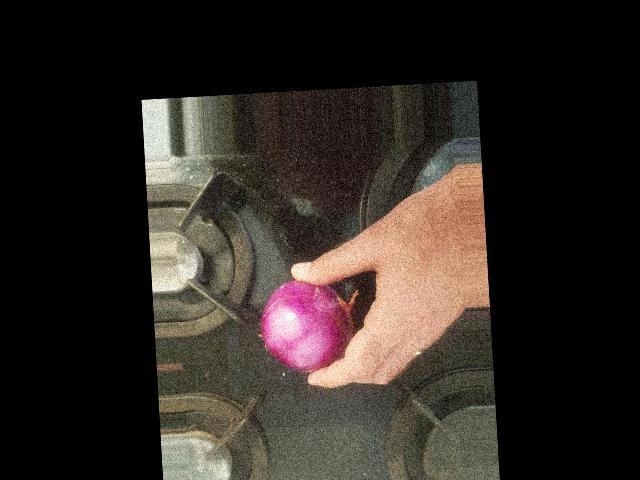onion: (265, 280, 347, 371)
